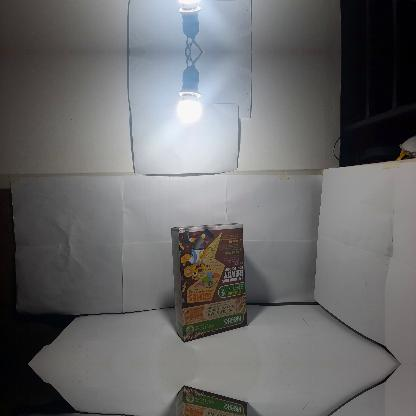Koko-Krunch: (170, 223, 248, 342), (170, 386, 248, 415)
